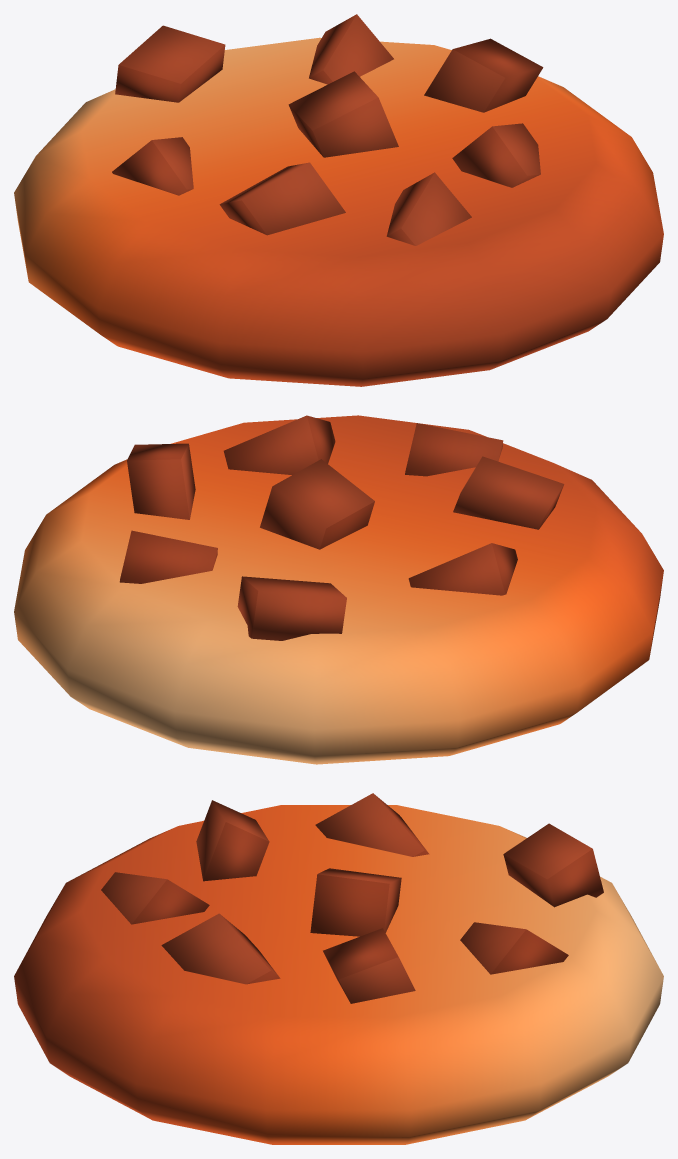
The model's file is cookie_003.fbx.
3 views of the same model, one above another, from view 1: azimuth 30°, elevation 25°; view 2: azimuth 150°, elevation 25°; view 3: azimuth 270°, elevation 25° (orthographic).
Parts seen in each view (by area): view 1: cookie_003; view 2: cookie_003; view 3: cookie_003.
Boxes of the visible parts, box(x1,y1,x2,y2) form: cookie_003: box(14, 14, 663, 386); cookie_003: box(14, 415, 663, 764); cookie_003: box(14, 793, 663, 1144).
Size of the model in its own units: 6.57 by 6.74 by 1.85.
